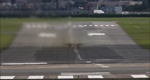maybay_muctieu: (65, 37, 83, 50)
